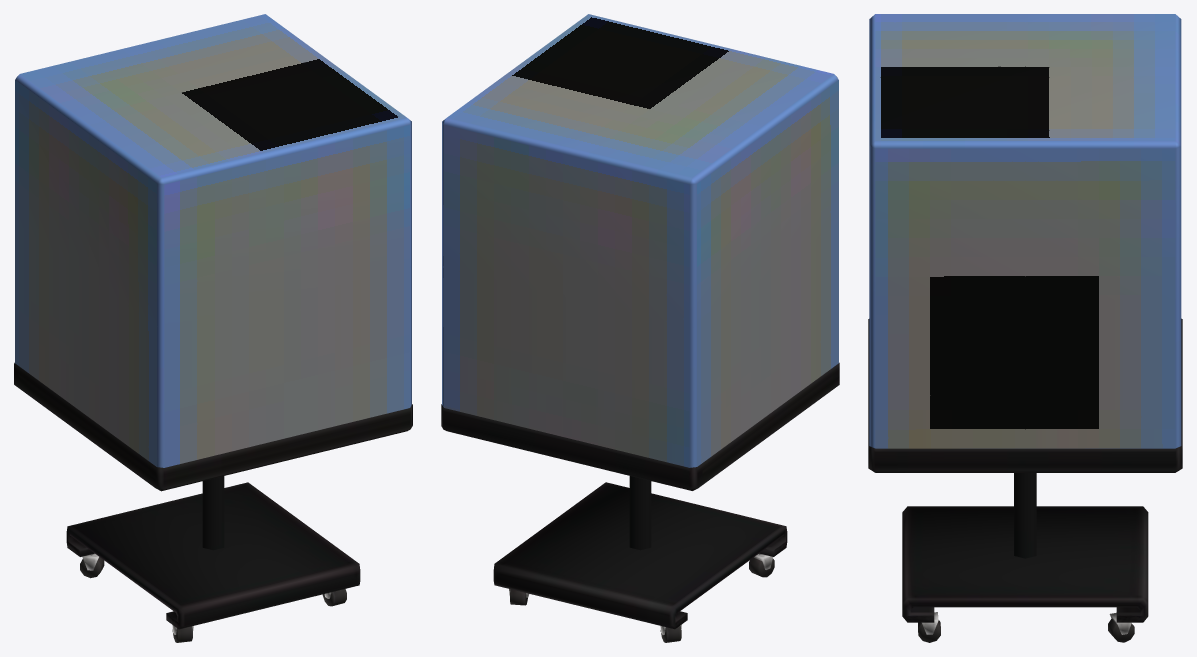
The picture shows the model from 3 angles, left to right: view 1: azimuth 30°, elevation 25°; view 2: azimuth 150°, elevation 25°; view 3: azimuth 270°, elevation 25°; orthographic projection. The views are drawn at different scales.
Bounding box in the file's own units: 9.94 × 18.24 × 9.93.
Materials: 3 (3 with a texture image).
